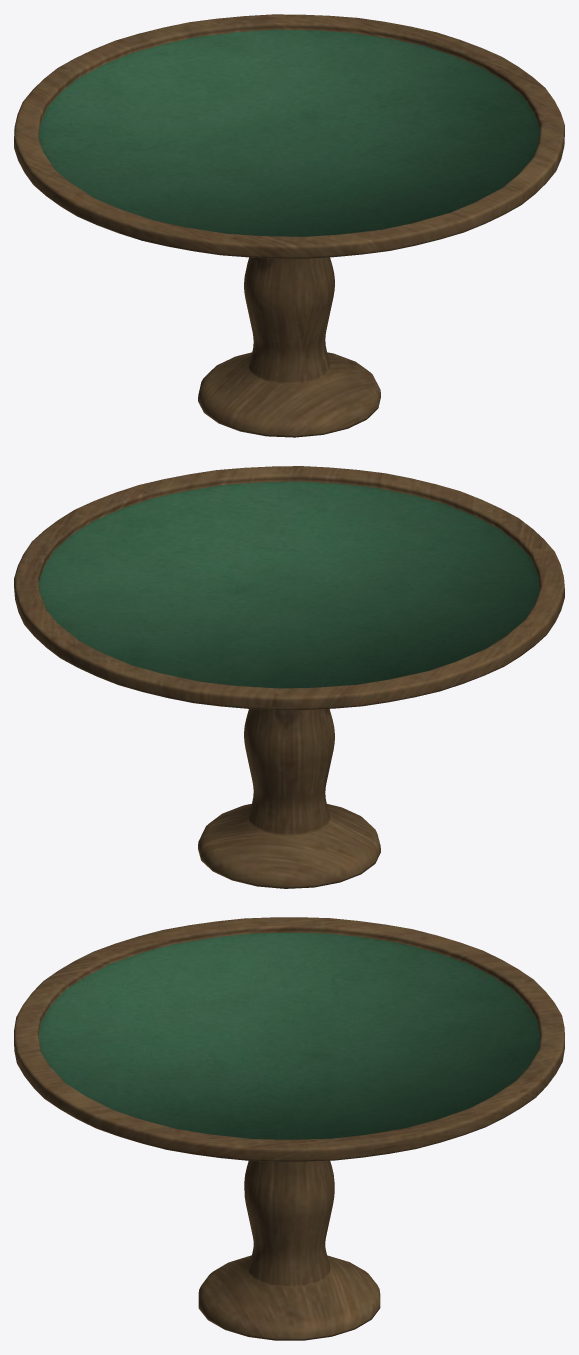
The model's file is WildWestTable.fbx.
3 views of the same model, one above another, from view 1: azimuth 30°, elevation 25°; view 2: azimuth 150°, elevation 25°; view 3: azimuth 270°, elevation 25° (orthographic).
Visible parts, largest first — view 1: PokerTable_low_BarPokerTable_0; view 2: PokerTable_low_BarPokerTable_0; view 3: PokerTable_low_BarPokerTable_0.
Boxes of the visible parts, x1,y1,x2,y2 form: PokerTable_low_BarPokerTable_0: (14,14,564,437); PokerTable_low_BarPokerTable_0: (14,466,564,888); PokerTable_low_BarPokerTable_0: (14,917,564,1340).
Size of the model in its own units: 5660 by 3056 by 5660.
